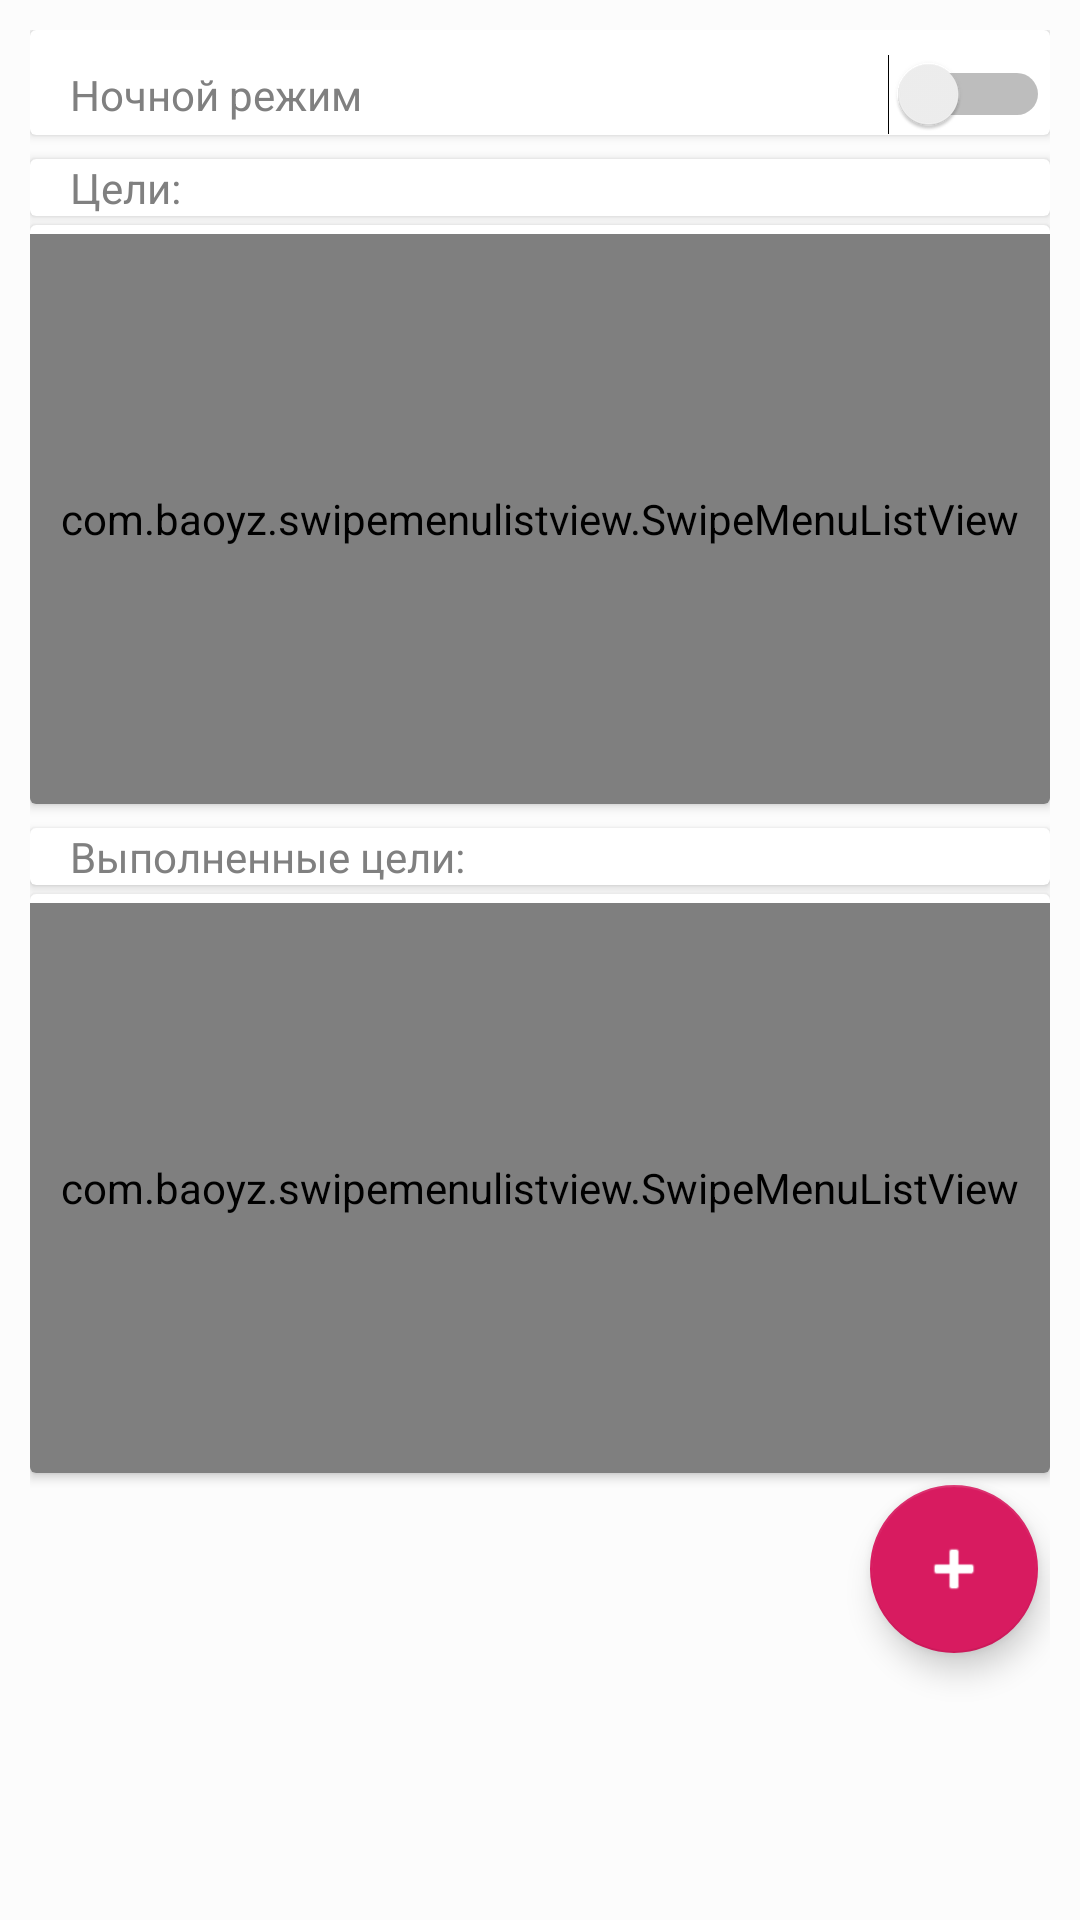

Locate icon controls on the screen. Image size 1080px×1920px, boxes as [x1=x1, y1=y1, x2=x2, y2=y2].
add: [x1=870, y1=1485, x2=1038, y2=1653]
